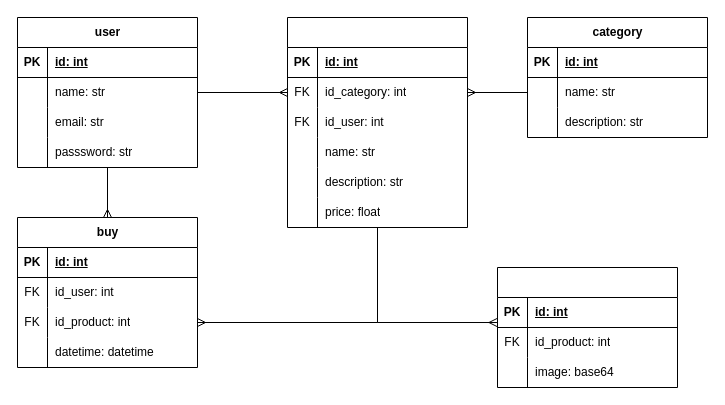
The diagram is 725 pixels wide and 405 high, and some of its shapes have lost their labels. The shapes that lost their labels are listed below. From the top down, each one's box as (x1, y1, x2, y2) in pixels, then its label:
(286, 16, 468, 228): product
(496, 266, 678, 388): image_product
